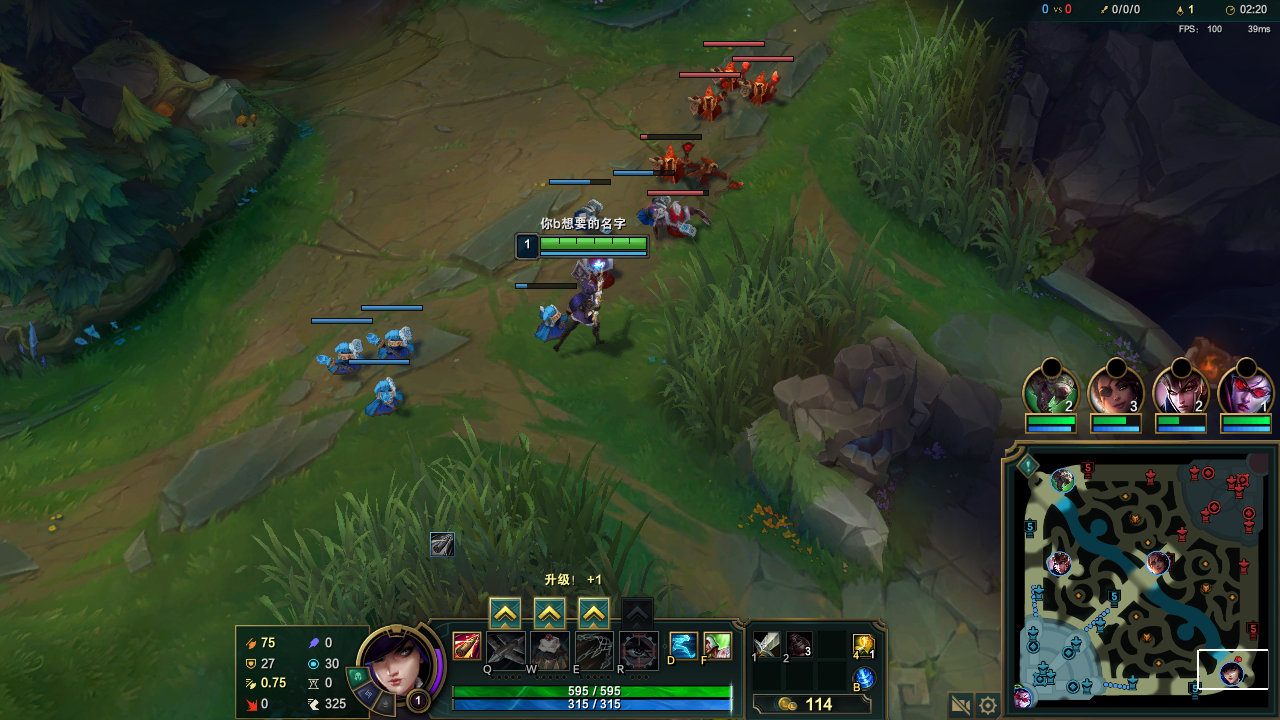DFXB: (657, 147, 688, 184), (741, 72, 777, 103), (665, 205, 701, 234), (714, 63, 745, 92), (689, 91, 723, 117)
Shenji: (535, 596, 564, 627), (490, 600, 517, 629), (582, 603, 611, 628)
WFXB: (316, 336, 366, 379), (368, 322, 415, 358), (363, 376, 406, 415), (529, 303, 561, 344), (632, 198, 668, 226), (576, 204, 604, 220)
